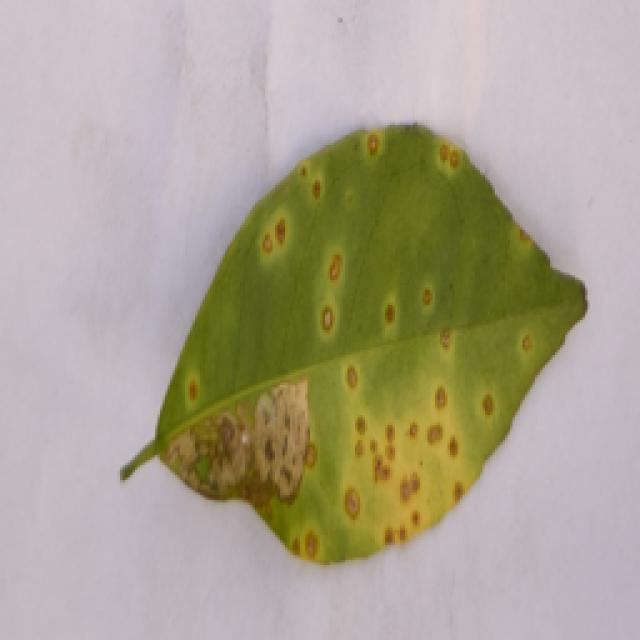canker: (134, 126, 586, 572)
